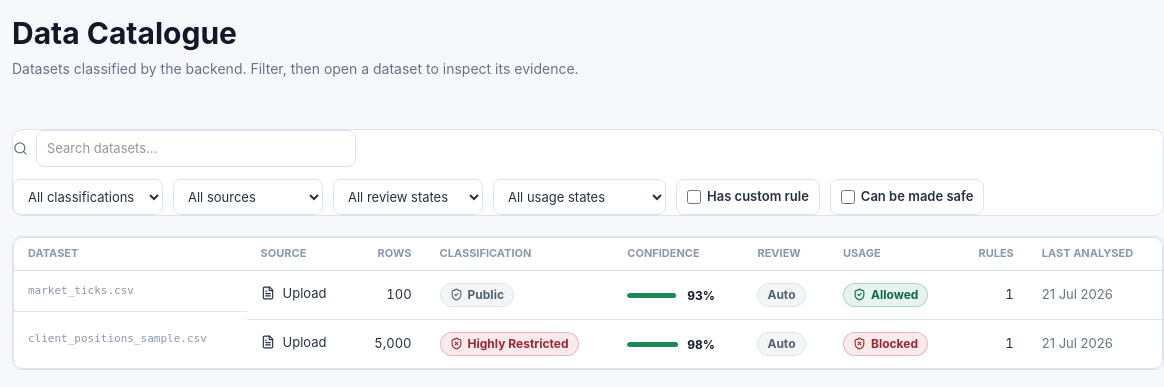
it: CataloguePage filters › filters by classification
Select "Highly Restricted" in the dropdown named "Classification". click: (88, 197)
box: [13,179,163,215]
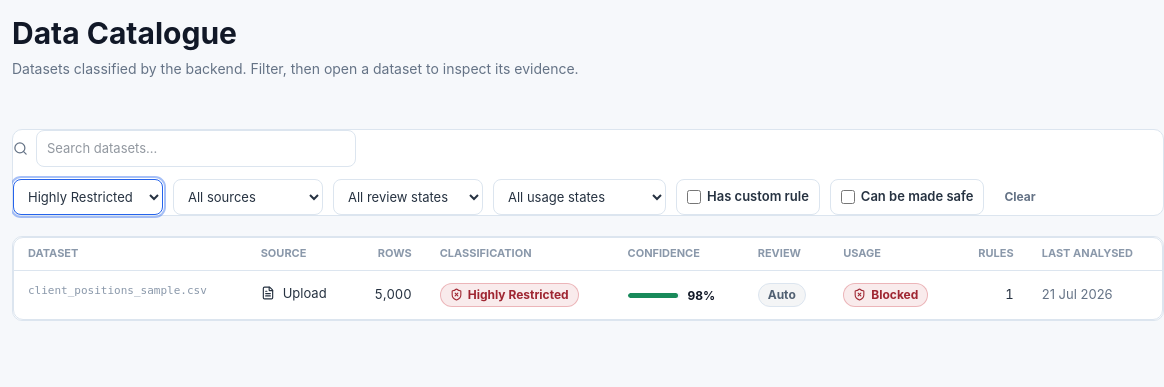
Expected: the text "client_positions_sample.csv" is shown, [28,283,207,298]
Expected: the link "market_ticks.csv" is gone
